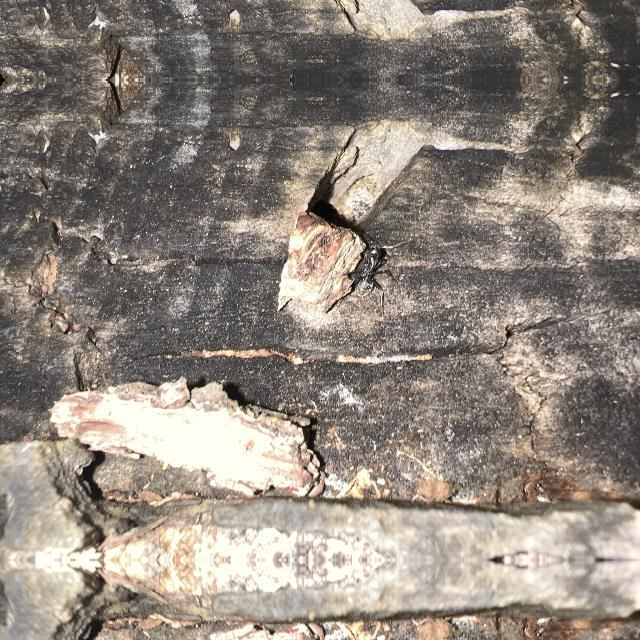Camponotus: (336, 238, 402, 308)
